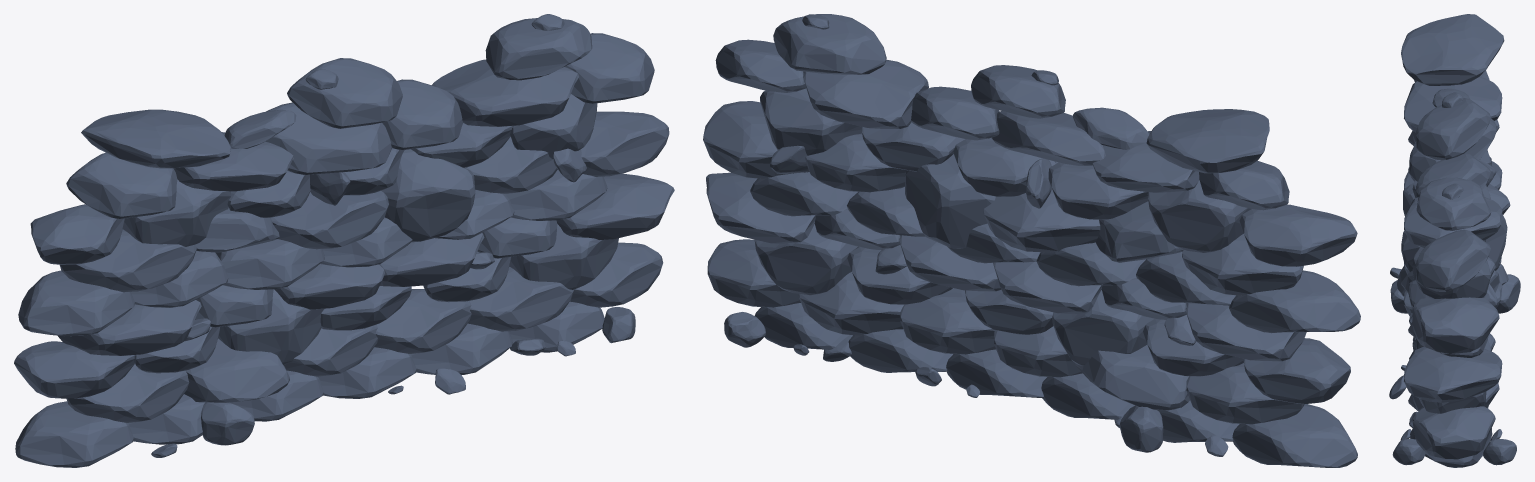
Rendered from Vampire_Assets_Wall1.fbx.
The picture shows the model from 3 angles, left to right: view 1: azimuth 30°, elevation 25°; view 2: azimuth 150°, elevation 25°; view 3: azimuth 270°, elevation 25°; orthographic projection. The views are drawn at different scales.
Parts seen in each view (by area): view 1: Rock.122; view 2: Rock.122; view 3: Rock.122.
Part boxes in pixels (x1,y1,x2,y2): Rock.122: [14, 14, 674, 467]; Rock.122: [703, 14, 1360, 467]; Rock.122: [1389, 14, 1520, 467].
Size of the model in its own units: 203377 by 97042 by 43101.
